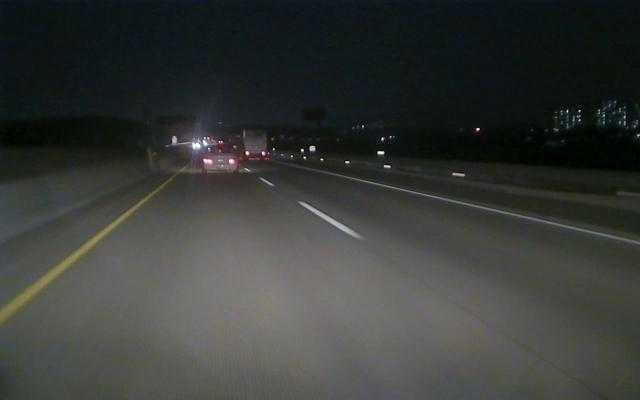lane: (317, 171, 637, 246), (2, 198, 147, 323), (261, 177, 365, 238)
